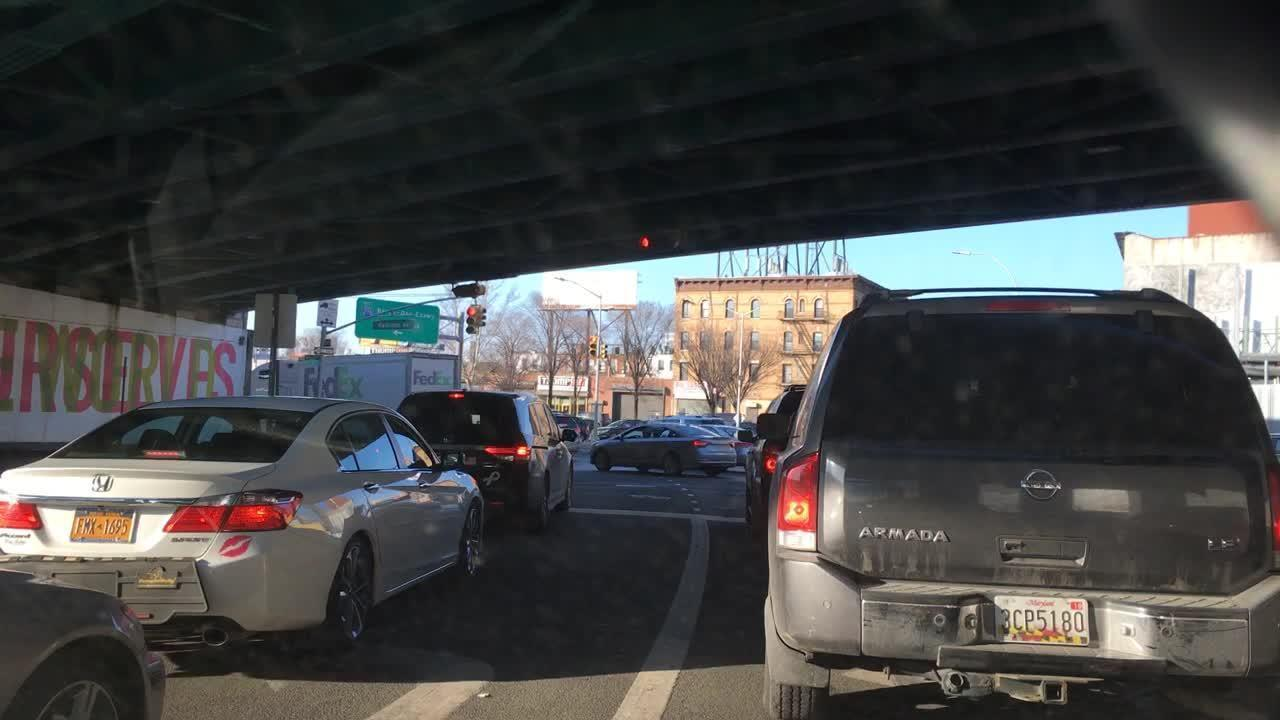Honda: (86, 471, 117, 495)
Nissan: (1013, 462, 1069, 508)
